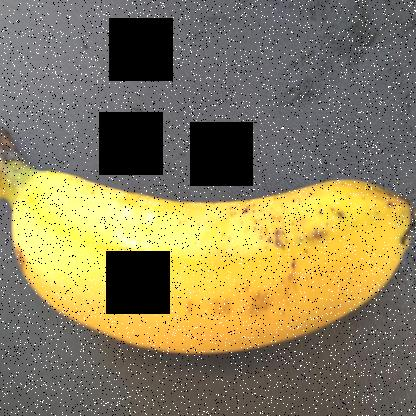ripe: (0, 128, 398, 382)
